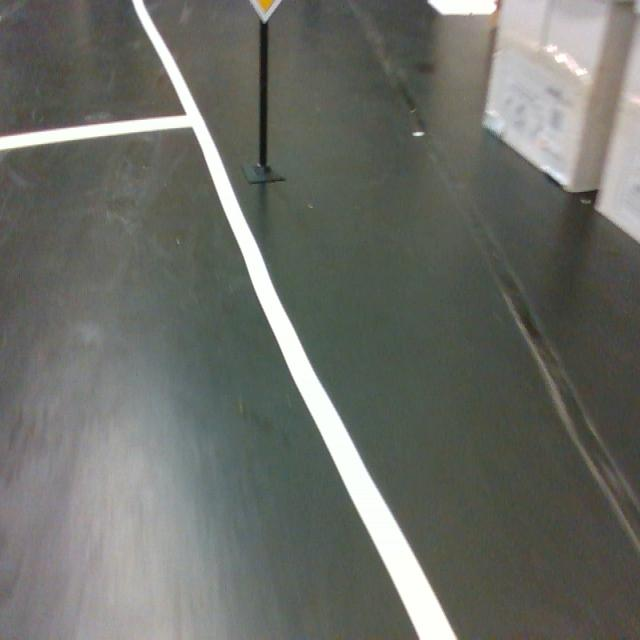priority-sign: (248, 0, 283, 25)
